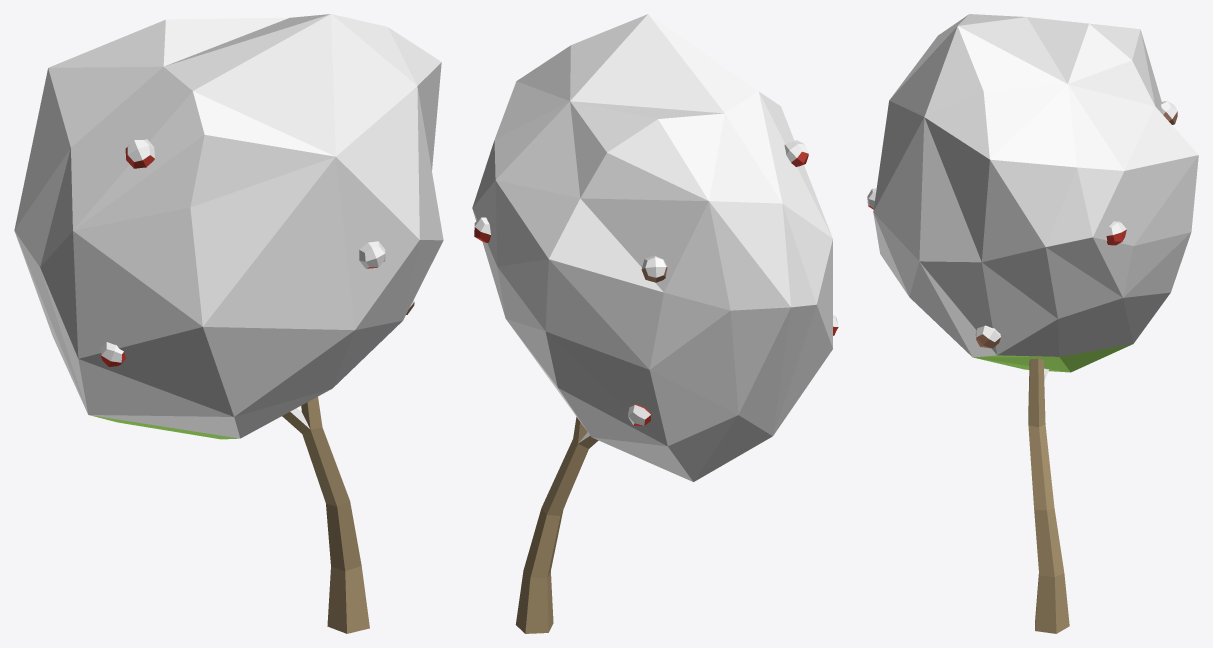
File: Apple_Tree_Apples_m_Snow_05_LOD.fbx
The picture shows the model from 3 angles, left to right: view 1: azimuth 30°, elevation 25°; view 2: azimuth 150°, elevation 25°; view 3: azimuth 270°, elevation 25°; orthographic projection. The views are drawn at different scales.
Parts seen in each view (by area): view 1: Apple_Tree_Apples_m_Snow_05_LOD0; view 2: Apple_Tree_Apples_m_Snow_05_LOD0; view 3: Apple_Tree_Apples_m_Snow_05_LOD0.
Boxes of the visible parts, x1=… form: Apple_Tree_Apples_m_Snow_05_LOD0: x1=14, y1=14, x2=443, y2=633; Apple_Tree_Apples_m_Snow_05_LOD0: x1=472, y1=14, x2=838, y2=633; Apple_Tree_Apples_m_Snow_05_LOD0: x1=867, y1=14, x2=1198, y2=633.
Size of what is drawn, in the model's own units: 436 by 752 by 396.
